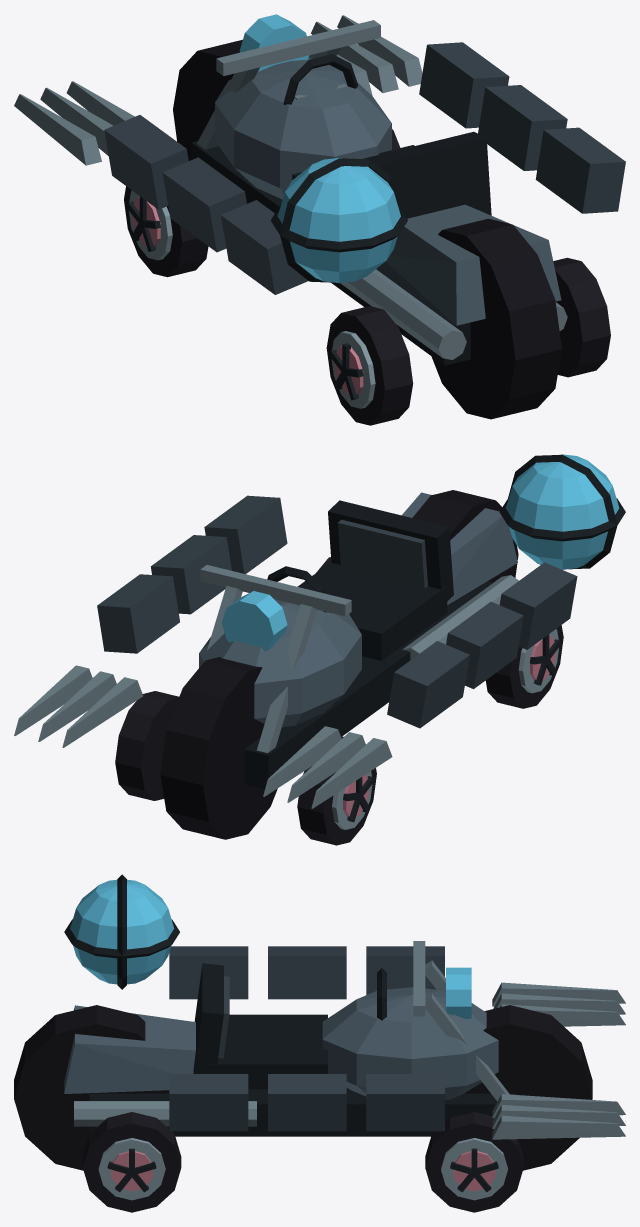
The model's file is kart.glb.
3 renders of one model, top to bottom at view 1: azimuth 30°, elevation 25°; view 2: azimuth 150°, elevation 25°; view 3: azimuth 270°, elevation 25°, orthographic. The views are drawn at different scales.
Visible parts, largest first — view 1: identity-motorbike-motorbike-tank-and-fork, identity-motorbike-motif-armor, identity-motorbike-motif-ball, identity-motorbike-driver-cockpit, identity-motorbike-motif-claws, wheel-rear-left, wheel-rear-right, wheel-front-left; view 2: identity-motorbike-motorbike-tank-and-fork, identity-motorbike-motif-armor, identity-motorbike-driver-cockpit, identity-motorbike-motif-ball, identity-motorbike-motif-claws, wheel-front-right, wheel-front-left, wheel-rear-left; view 3: identity-motorbike-motorbike-tank-and-fork, identity-motorbike-motif-armor, identity-motorbike-driver-cockpit, identity-motorbike-motif-claws, identity-motorbike-motif-ball, wheel-rear-right, wheel-front-right.
Part boxes in pixels (x1=…): identity-motorbike-motorbike-tank-and-fork: x1=173, y1=14, x2=567, y2=419; identity-motorbike-motif-armor: x1=104, y1=42, x2=625, y2=294; identity-motorbike-motif-ball: x1=271, y1=158, x2=407, y2=283; identity-motorbike-driver-cockpit: x1=283, y1=54, x2=491, y2=218; identity-motorbike-motif-claws: x1=14, y1=15, x2=422, y2=165; wheel-rear-left: x1=326, y1=306, x2=413, y2=425; wheel-rear-right: x1=553, y1=257, x2=610, y2=377; wheel-front-left: x1=124, y1=186, x2=208, y2=277; identity-motorbike-motorbike-tank-and-fork: x1=160, y1=490, x2=518, y2=839; identity-motorbike-motif-armor: x1=97, y1=495, x2=577, y2=728; identity-motorbike-driver-cockpit: x1=267, y1=500, x2=453, y2=660; identity-motorbike-motif-ball: x1=499, y1=454, x2=625, y2=569; identity-motorbike-motif-claws: x1=14, y1=665, x2=392, y2=808; wheel-front-right: x1=115, y1=691, x2=178, y2=800; wheel-front-left: x1=297, y1=736, x2=376, y2=845; wheel-rear-left: x1=485, y1=625, x2=563, y2=708; identity-motorbike-motorbike-tank-and-fork: x1=14, y1=941, x2=592, y2=1170; identity-motorbike-motif-armor: x1=169, y1=946, x2=444, y2=1131; identity-motorbike-driver-cockpit: x1=193, y1=963, x2=386, y2=1089; identity-motorbike-motif-claws: x1=492, y1=982, x2=625, y2=1139; identity-motorbike-motif-ball: x1=64, y1=874, x2=179, y2=989; wheel-rear-right: x1=83, y1=1112, x2=181, y2=1212; wheel-front-right: x1=425, y1=1112, x2=523, y2=1212.
Size of the model in its own units: 1.85 by 1.29 by 3.11.
